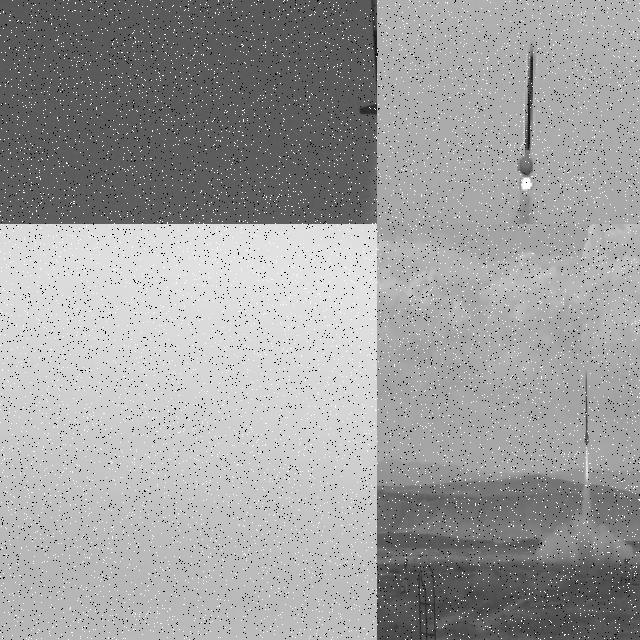Rocket: (515, 39, 536, 176), (357, 0, 377, 123), (584, 370, 590, 446)
